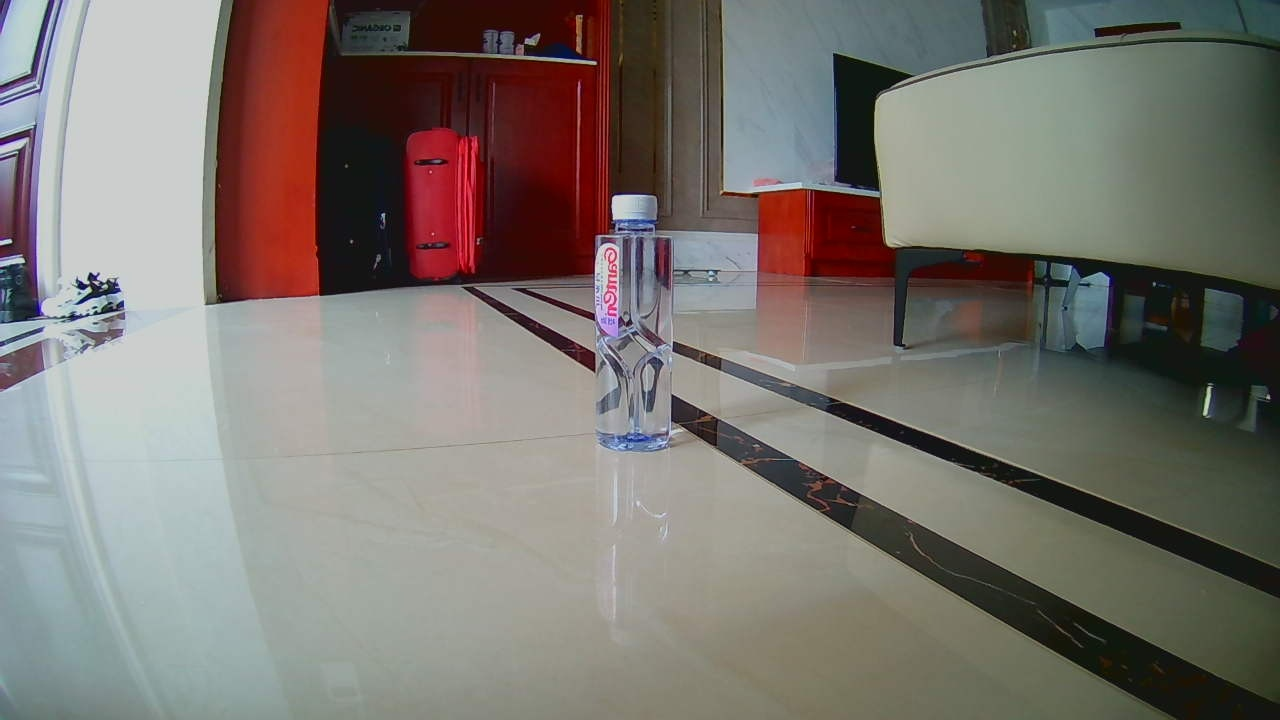water: (593, 190, 673, 447)
